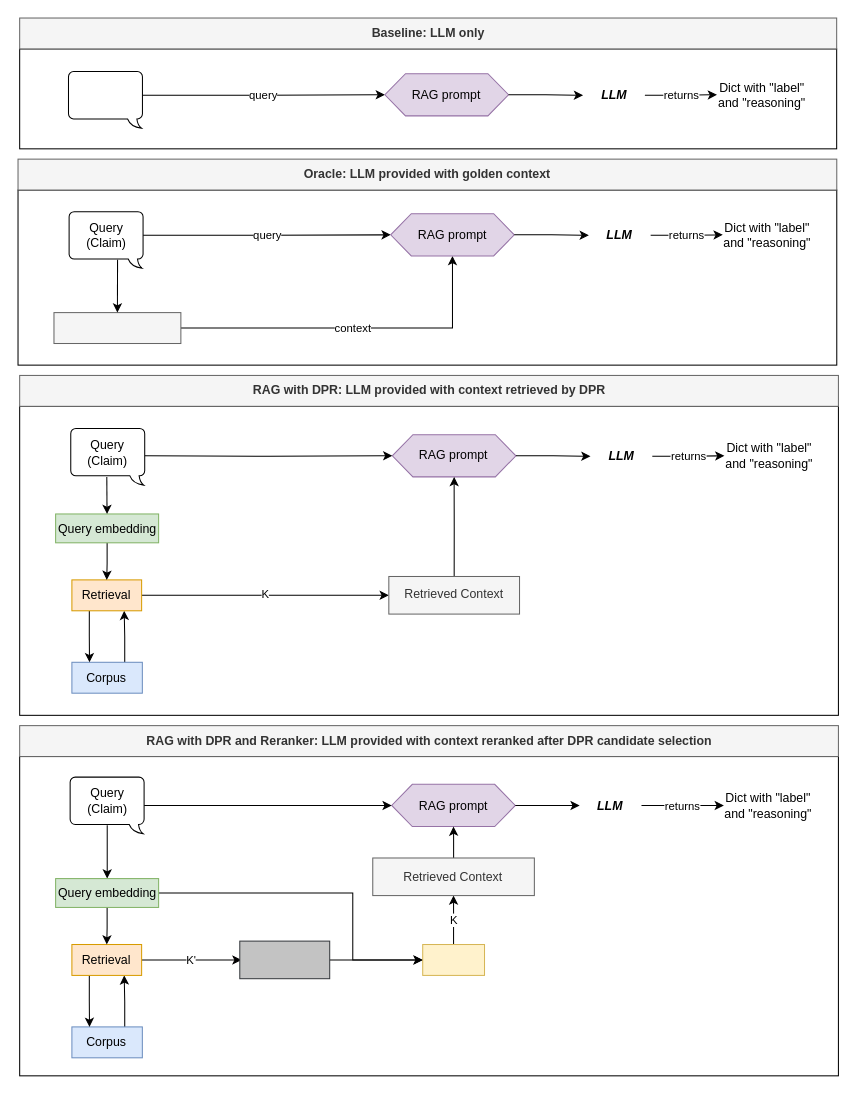
The diagram is 857 pixels wide and 1094 high, and some of its shapes have lost their labels. Here are the shapes that lost their labels. From the top down, the centre of each, then its label:
At (x=104, y=99): "Claim".
At (x=117, y=328): "Golden passages".
At (x=284, y=959): "Retrieved Candidates".
At (x=453, y=959): "Reranked".
